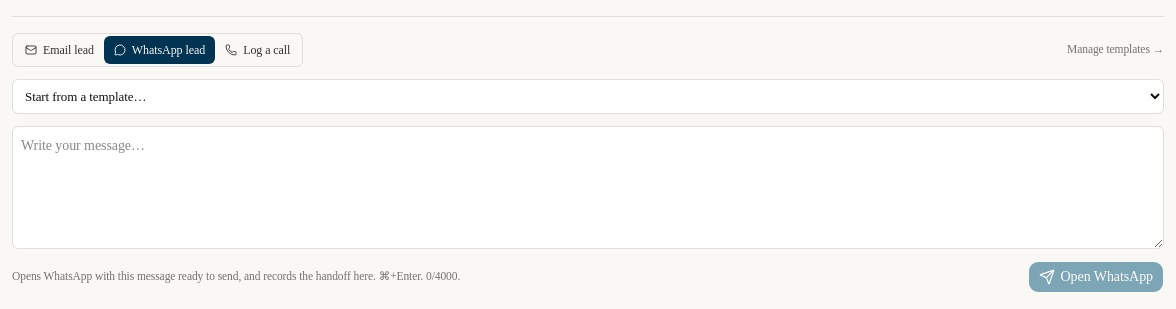
EnquiryComposer › explains why a channel is unavailable instead of failing on send
Step 1. Click the button "Email lead" → point(59, 50), box [15,36,104,64]
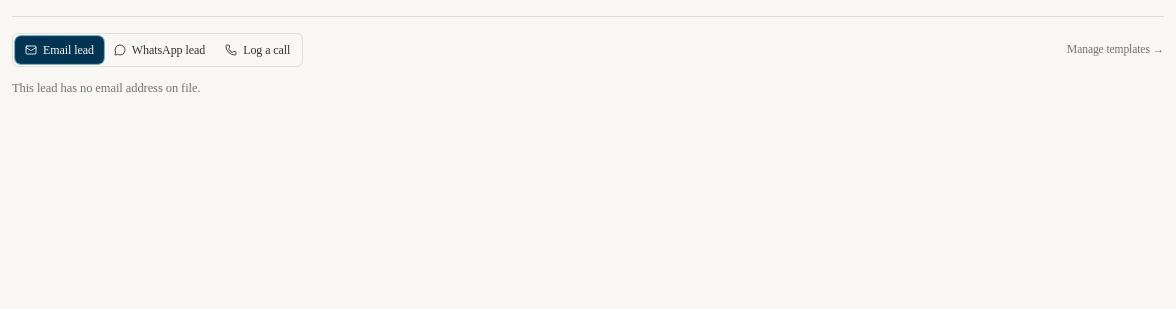
Result: the text "This lead has no email address on file." is shown at [12,81,200,95]
